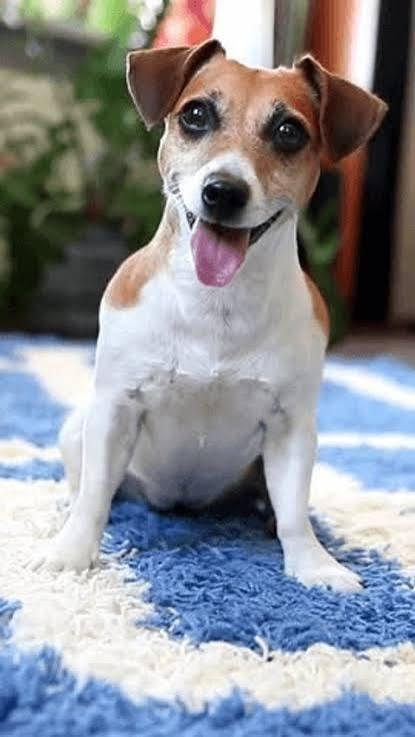adult_dog: (12, 39, 391, 600)
